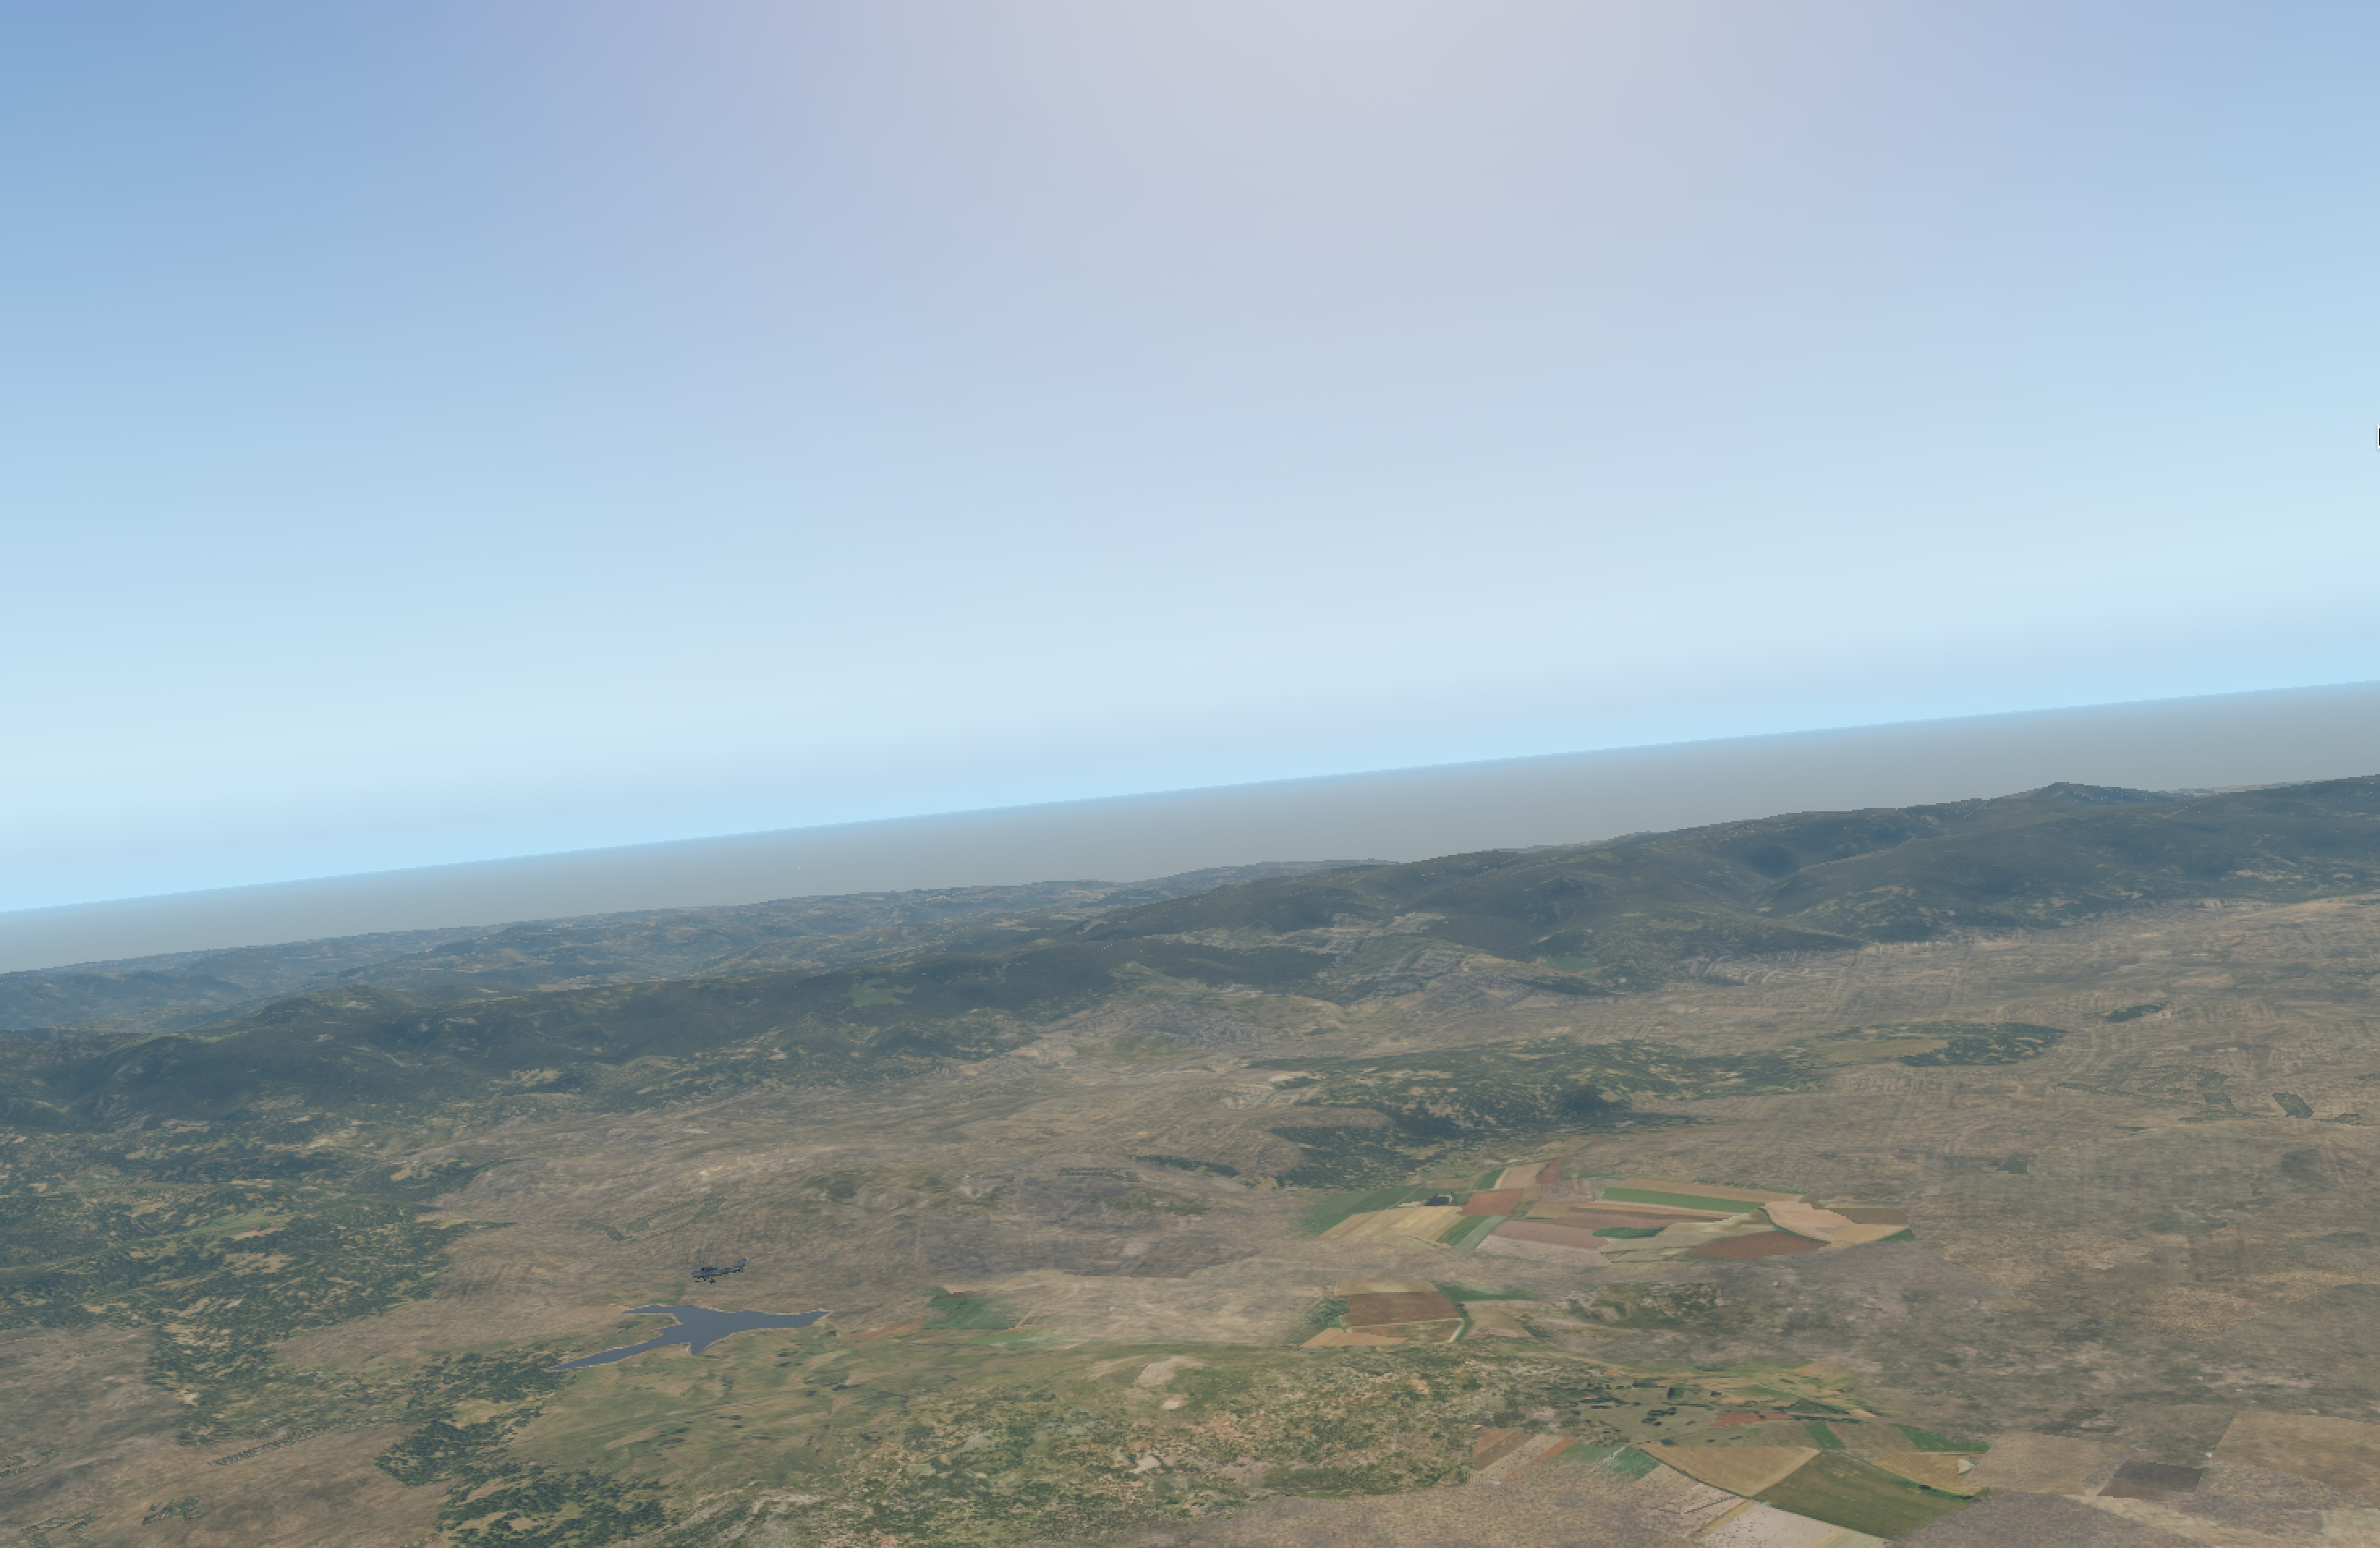aircraft: (680, 1262, 734, 1282)
